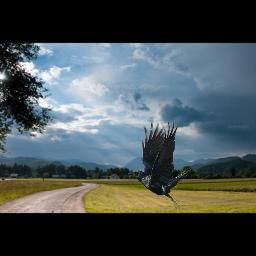Crow: (128, 119, 191, 210)
